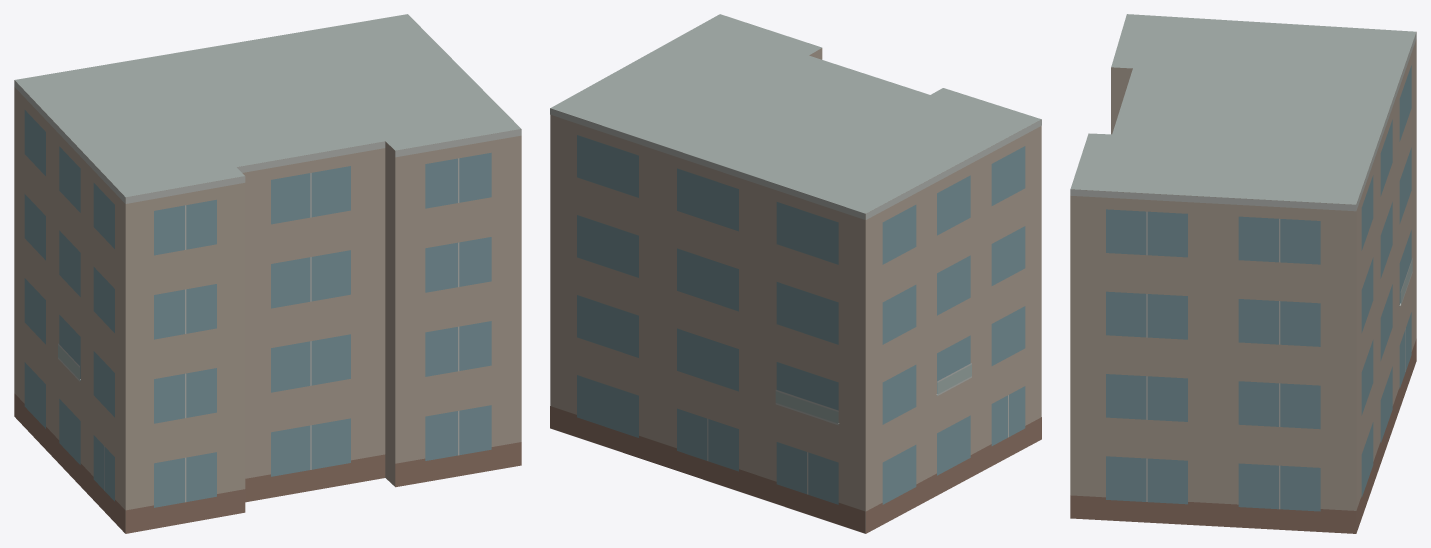
File: survey-upis-32657112.glb
3 views of the same model, side by side, from view 1: azimuth 30°, elevation 25°; view 2: azimuth 150°, elevation 25°; view 3: azimuth 270°, elevation 25° (orthographic). The views are drawn at different scales.
Parts seen in each view (by area): view 1: survey-upis-32657112.tmp; view 2: survey-upis-32657112.tmp; view 3: survey-upis-32657112.tmp.
Part boxes in pixels (bbox=[...]): survey-upis-32657112.tmp: bbox=[14, 14, 521, 533]; survey-upis-32657112.tmp: bbox=[550, 14, 1041, 533]; survey-upis-32657112.tmp: bbox=[1070, 14, 1416, 533].
Bounding box in the file's own units: 15.17 × 12.2 × 11.64.
